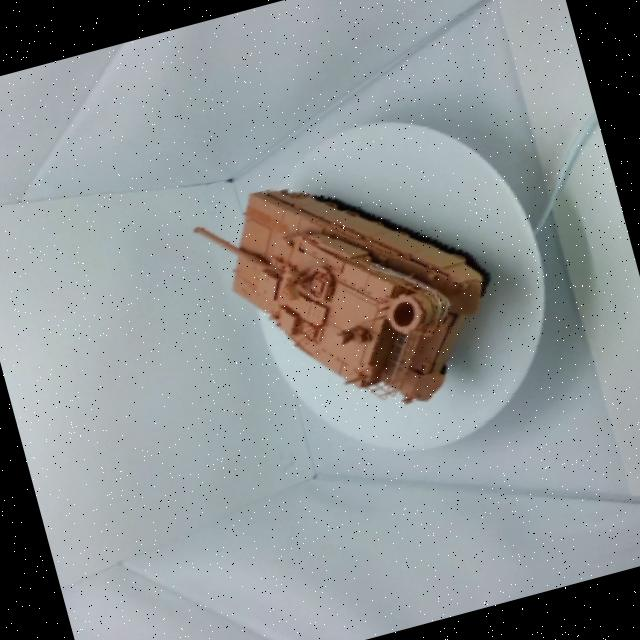korea tank: (158, 101, 530, 467)
